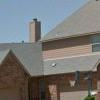Chimney: (24, 12, 44, 57)
